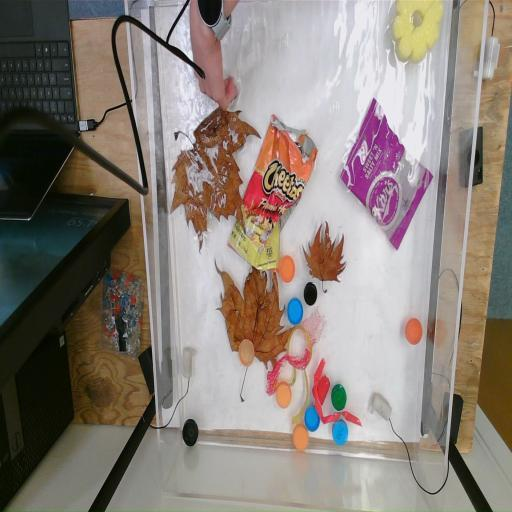Bottle Cap: (181, 416, 202, 448), (287, 290, 302, 331), (274, 382, 294, 410), (238, 338, 255, 368), (332, 418, 349, 446), (405, 318, 423, 344), (278, 256, 294, 285), (331, 384, 347, 412), (304, 405, 320, 432), (292, 423, 308, 450), (304, 282, 318, 306)
Cone Cap: (316, 374, 330, 406)
Leaf: (169, 104, 260, 240), (218, 260, 292, 374), (302, 221, 347, 291)
Netting: (267, 351, 307, 394), (300, 314, 326, 353)
Plastic Bag: (337, 97, 438, 253), (230, 116, 318, 268)
Plastic Strand: (308, 356, 361, 432), (286, 320, 314, 434)
Sponge: (394, 1, 444, 67)
